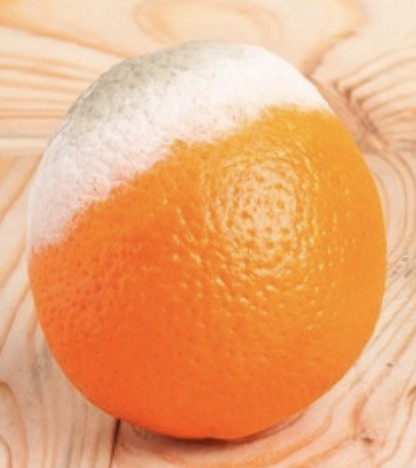rotten_orange: (29, 42, 390, 435)
